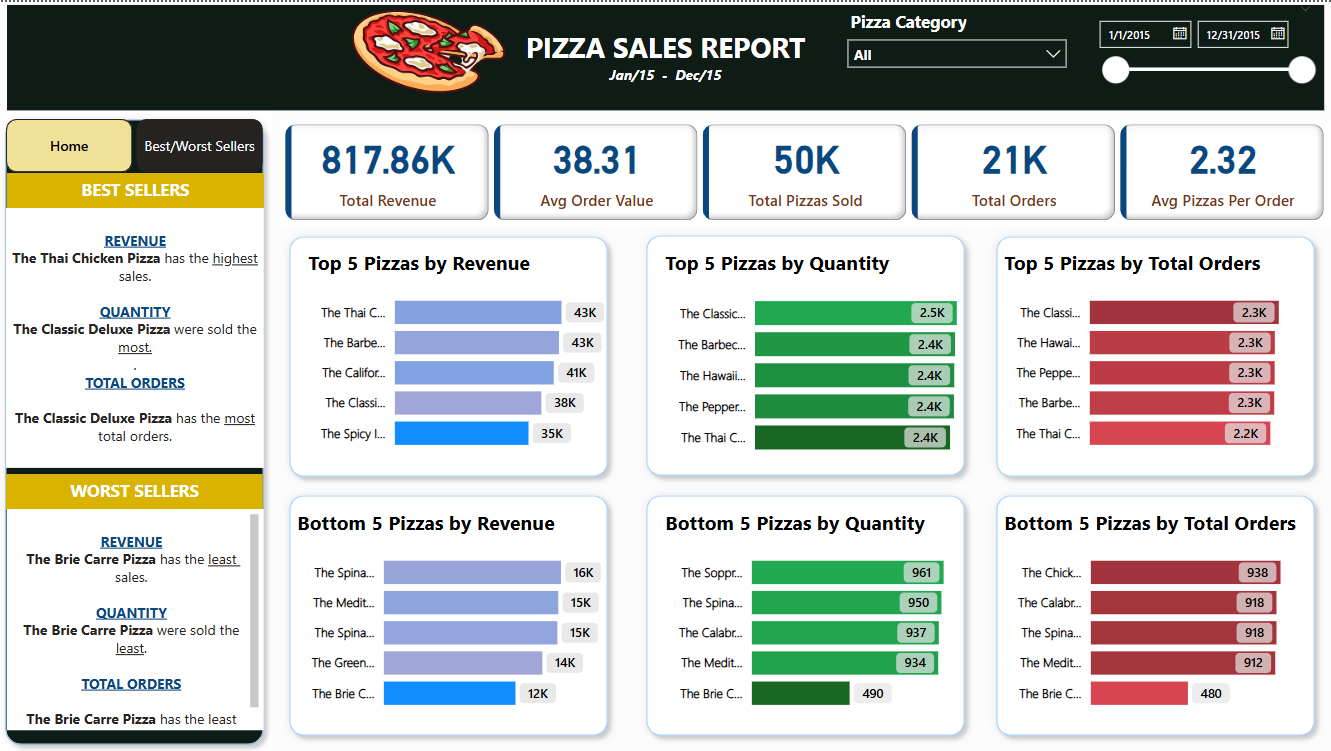

The dashboard page shown, as its layout file describes it:
{"tool":"powerbi","page":{"name":"Best/Worst Sellers","canvas":[1280,720],"ordinal":1},"visuals":[{"type":"cardVisual","fields":{"Data":["pizza_sales.Total Revenue","pizza_sales.Avg Order Value","pizza_sales.Total Pizzas Sold","pizza_sales.Total Orders","pizza_sales.Avg Pizzas Per Order"]},"box":[272.1,112.1,1007.9,102.5],"z":0},{"type":"shape","box":[272.1,215.6,322.9,248.1],"z":1000},{"type":"shape","box":[0,103.5,265.4,617],"z":2000},{"type":"textbox","box":[10.5,163.8,246.2,33.5],"z":3000},{"type":"textbox","box":[9.6,197.4,247.2,249.1],"z":4000},{"type":"textbox","box":[9.6,452.2,246.2,33.5],"z":5000},{"type":"textbox","box":[10.5,485.7,246.2,211.7],"z":6000},{"type":"textbox","box":[10.5,2.9,1261.8,100.6],"z":7000},{"type":"slicer","fields":{"Values":["pizza_sales.pizza_category"]},"box":[805.7,2.9,229.9,76.6],"z":8000},{"type":"slicer","fields":{"Values":["pizza_sales.order_date"]},"box":[1044.3,0,228,96.8],"z":9000},{"type":"shape","box":[272.1,463.7,322.9,248.1],"z":10000},{"type":"shape","box":[614.1,214.6,322.9,248.1],"z":11000},{"type":"shape","box":[949.5,215.6,322.9,248.1],"z":12000},{"type":"shape","box":[614.1,463.7,322.9,248.1],"z":13000},{"type":"shape","box":[949.5,463.7,322.9,248.1],"z":14000},{"type":"barChart","title":"Top 5 Pizzas by Revenue","fields":{"Category":["pizza_sales.pizza_name"],"Y":["pizza_sales.Total Revenue"]},"box":[294.1,236.6,300.8,205],"z":15000},{"type":"barChart","title":"Top 5 Pizzas by Quantity","fields":{"Category":["pizza_sales.pizza_name"],"Y":["pizza_sales.Total Pizzas Sold"]},"box":[636.2,236.6,313.3,209.8],"z":16000},{"type":"barChart","title":"Top 5 Pizzas by Total Orders","fields":{"Category":["pizza_sales.pizza_name"],"Y":["pizza_sales.Total Orders"]},"box":[961,236.6,298,205],"z":17000},{"type":"barChart","title":"Bottom 5 Pizzas by Revenue","fields":{"Category":["pizza_sales.pizza_name"],"Y":["pizza_sales.Total Revenue"]},"box":[283.6,485.7,300.8,205],"z":18000},{"type":"barChart","title":"Bottom 5 Pizzas by Quantity","fields":{"Category":["pizza_sales.pizza_name"],"Y":["pizza_sales.Total Pizzas Sold"]},"box":[636.2,485.7,300.8,205],"z":19000},{"type":"barChart","title":"Bottom 5 Pizzas by Total  Orders","fields":{"Category":["pizza_sales.pizza_name"],"Y":["pizza_sales.Total Orders"]},"box":[961,485.7,300.8,205],"z":20000},{"type":"pageNavigator","box":[9.6,112.1,247.2,51.7],"z":21000},{"type":"image","box":[317.1,0,193.5,96.8],"z":22000}]}

Visuals, with their boxes in screenshot pixels (x1, y1, x2, y2), scaled from the page's 1280x720 canvas onto the 1331x751 screenshot:
cardVisual - pizza_sales.Total Revenue x pizza_sales.Avg Order Value: {"left": 283, "top": 117, "right": 1330, "bottom": 224}
shape: {"left": 283, "top": 225, "right": 619, "bottom": 484}
shape: {"left": 0, "top": 108, "right": 276, "bottom": 750}
textbox: {"left": 11, "top": 171, "right": 267, "bottom": 206}
textbox: {"left": 10, "top": 206, "right": 267, "bottom": 466}
textbox: {"left": 10, "top": 472, "right": 266, "bottom": 507}
textbox: {"left": 11, "top": 507, "right": 267, "bottom": 727}
textbox: {"left": 11, "top": 3, "right": 1323, "bottom": 108}
slicer - pizza_sales.pizza_category: {"left": 838, "top": 3, "right": 1077, "bottom": 83}
slicer - pizza_sales.order_date: {"left": 1086, "top": 0, "right": 1323, "bottom": 101}
shape: {"left": 283, "top": 484, "right": 619, "bottom": 742}
shape: {"left": 639, "top": 224, "right": 974, "bottom": 483}
shape: {"left": 987, "top": 225, "right": 1323, "bottom": 484}
shape: {"left": 639, "top": 484, "right": 974, "bottom": 742}
shape: {"left": 987, "top": 484, "right": 1323, "bottom": 742}
"Top 5 Pizzas by Revenue" barChart: {"left": 306, "top": 247, "right": 619, "bottom": 461}
"Top 5 Pizzas by Quantity" barChart: {"left": 662, "top": 247, "right": 987, "bottom": 466}
"Top 5 Pizzas by Total Orders" barChart: {"left": 999, "top": 247, "right": 1309, "bottom": 461}
"Bottom 5 Pizzas by Revenue" barChart: {"left": 295, "top": 507, "right": 608, "bottom": 720}
"Bottom 5 Pizzas by Quantity" barChart: {"left": 662, "top": 507, "right": 974, "bottom": 720}
"Bottom 5 Pizzas by Total  Orders" barChart: {"left": 999, "top": 507, "right": 1312, "bottom": 720}
pageNavigator: {"left": 10, "top": 117, "right": 267, "bottom": 171}
image: {"left": 330, "top": 0, "right": 531, "bottom": 101}
